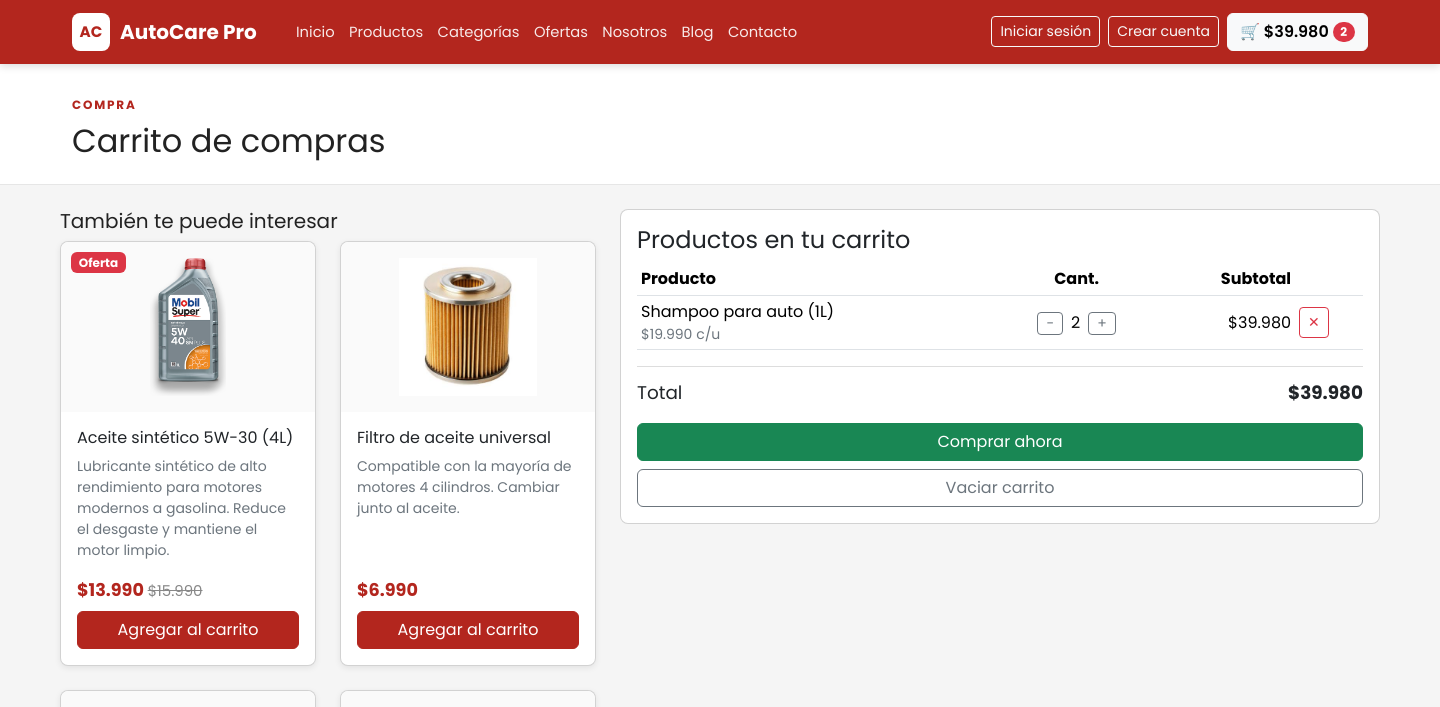
Scenario: Checkout y resultado de la compra › la página del carrito permite cambiar cantidades
What coordinates should you click on to do the following:
click the button named "Agregar una unidad de Shampoo para auto (1L)"
I would click on:
 (1102, 323)
Its box is left=1088, top=312, right=1116, bottom=335.
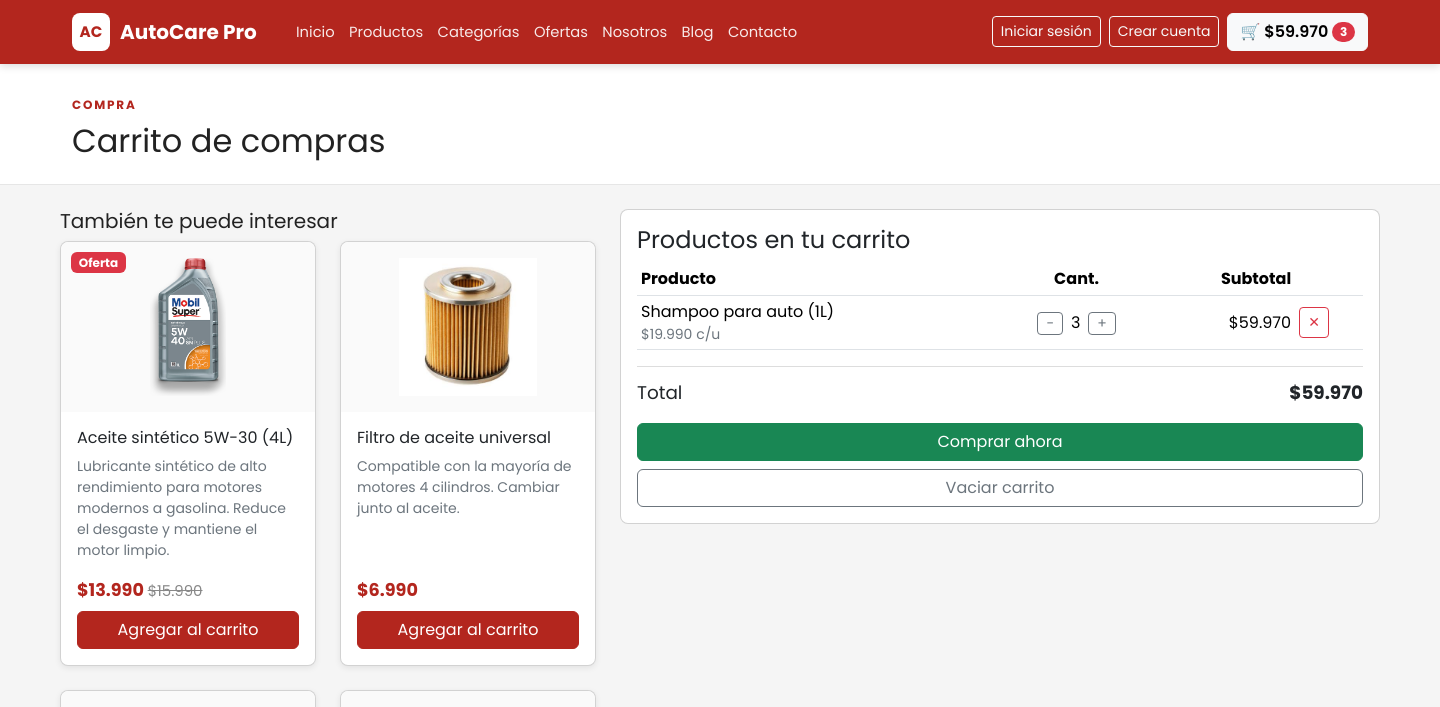
expect the text with test id "cantidad-3" reads "3": met, box left=1071, top=311, right=1080, bottom=334
expect the text with test id "contador" reads "3": met, box left=1340, top=23, right=1347, bottom=40
